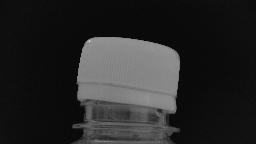Loose Cap: (68, 81, 184, 135)
